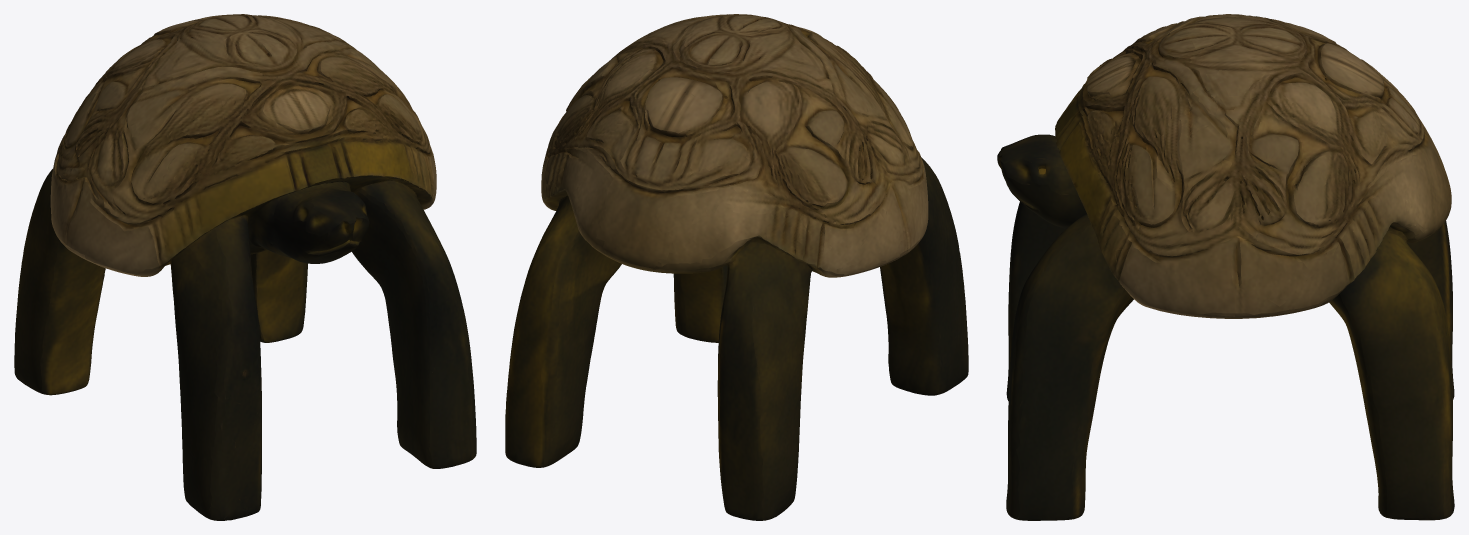
Rendered from item_5c4c188b.glb.
3 renders of one model, left to right at view 1: azimuth 30°, elevation 25°; view 2: azimuth 150°, elevation 25°; view 3: azimuth 270°, elevation 25°, orthographic. The views are drawn at different scales.
Visible parts, largest first — view 1: world; view 2: world; view 3: world.
Boxes of the visible parts, x1,y1,x2,y2 form: world: [14, 14, 476, 520]; world: [505, 14, 968, 520]; world: [997, 14, 1454, 520].
Bounding box in the file's own units: 0.45 × 0.4697 × 0.4671.
1 material, 1 textured.
